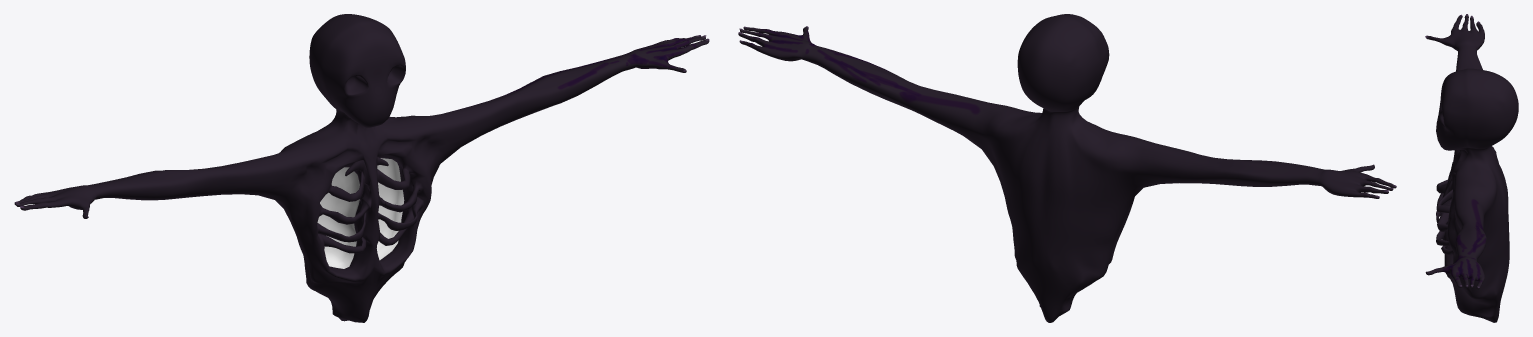
The model's file is PlayerModelarmsref.fbx.
3 renders of one model, left to right at view 1: azimuth 30°, elevation 25°; view 2: azimuth 150°, elevation 25°; view 3: azimuth 270°, elevation 25°, orthographic. The views are drawn at different scales.
Visible parts, largest first — view 1: bODY; view 2: bODY; view 3: bODY.
Boxes of the visible parts, x1,y1,x2,y2 form: bODY: (14,14,709,322); bODY: (738,14,1396,322); bODY: (1425,14,1518,322).
Bounding box in the file's own units: 2571 × 1106 × 374.
2 materials, 1 textured.
